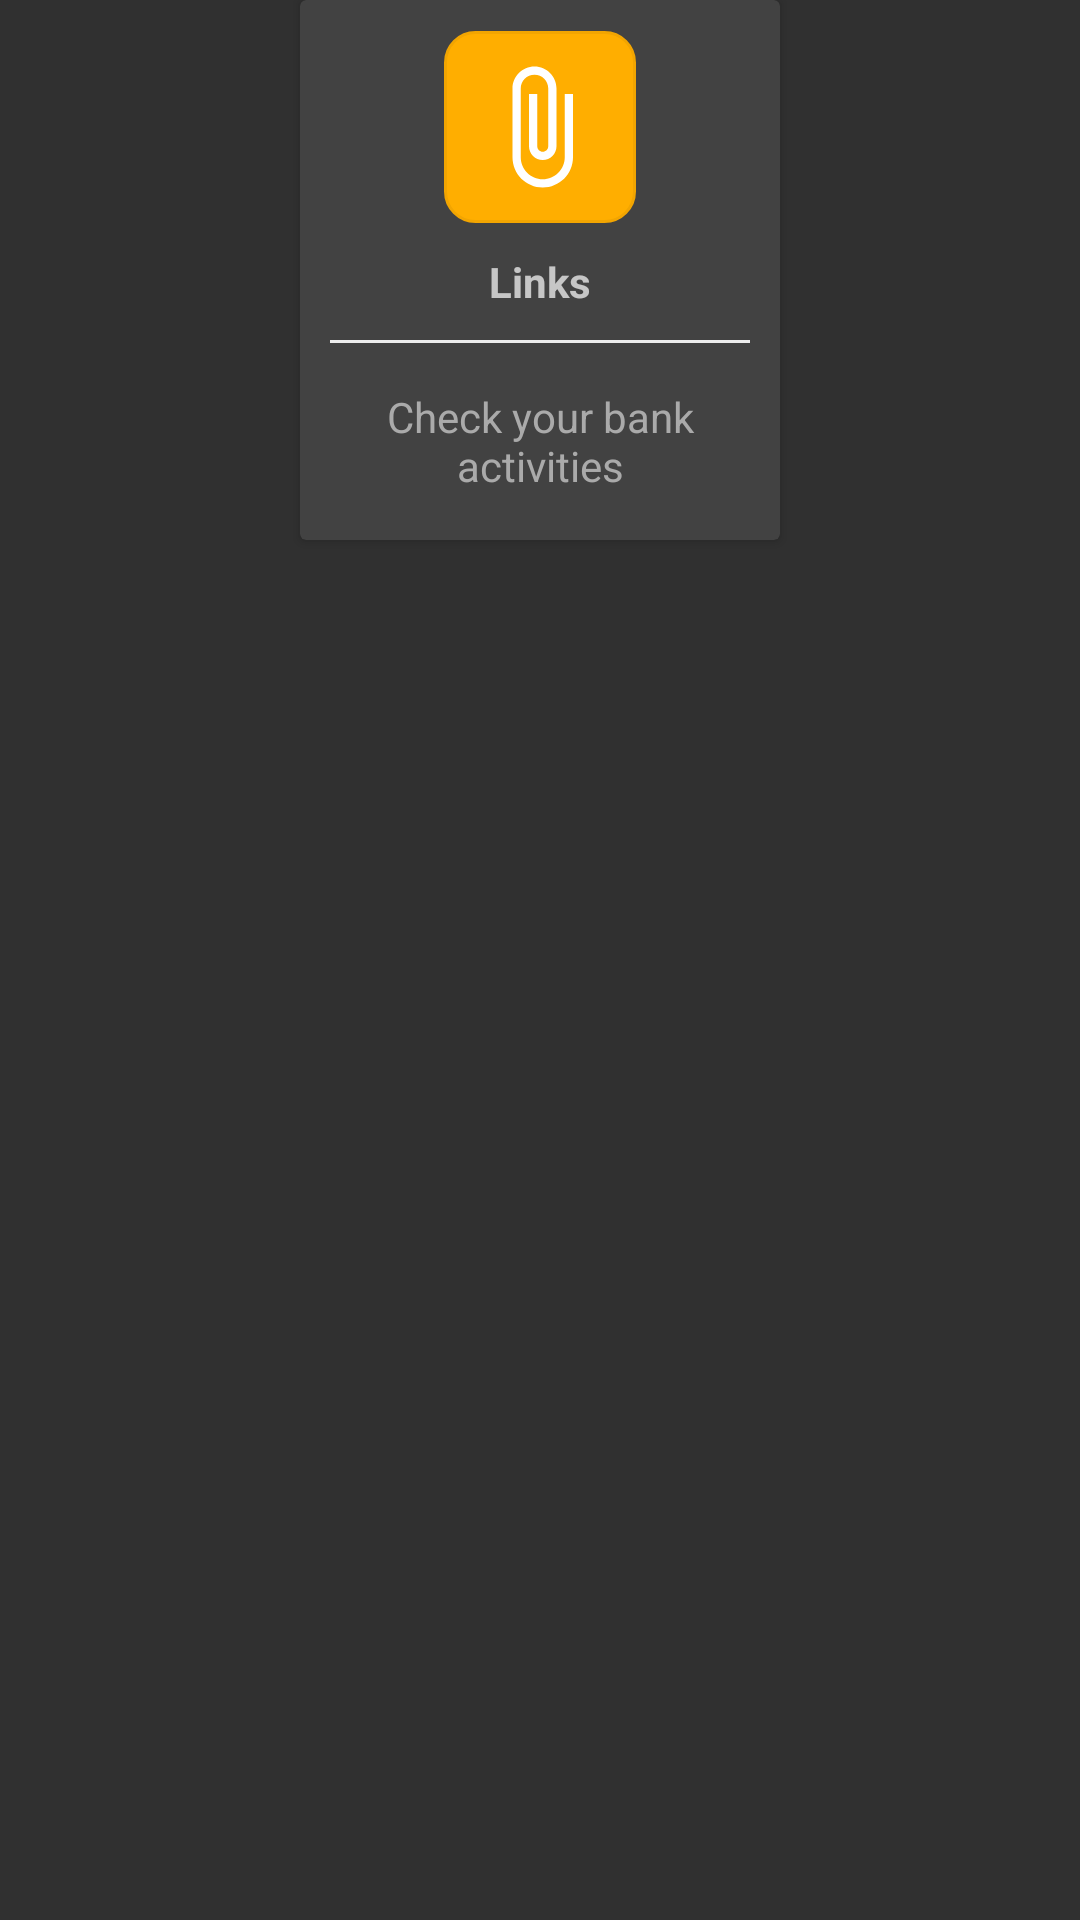

Screen size 1080w x 1920h. Icon name, then its center in pixels as (x=x, y=y):
attach file: (x=540, y=127)
